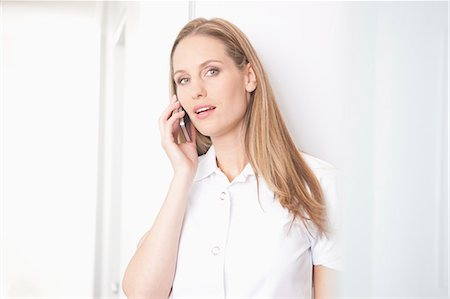phone: (159, 94, 197, 151)
talk: (149, 59, 241, 167)
